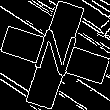N_S: (28, 25, 82, 85)
